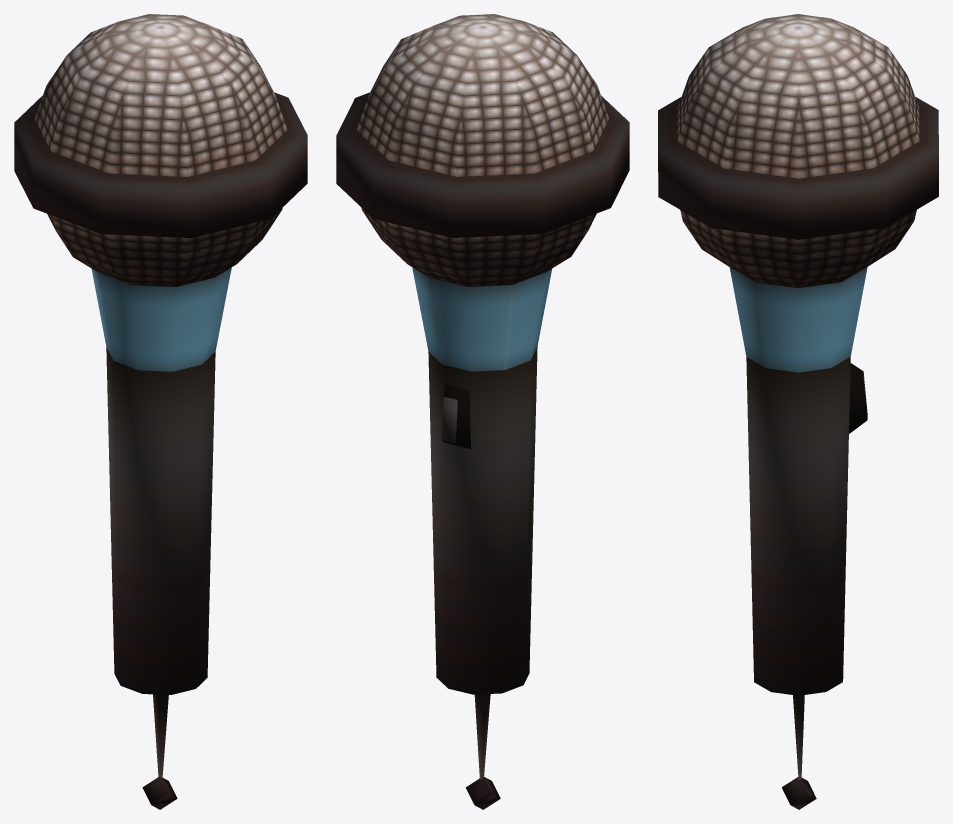
Rendered from microphone.fbx.
3 renders of one model, left to right at view 1: azimuth 30°, elevation 25°; view 2: azimuth 150°, elevation 25°; view 3: azimuth 270°, elevation 25°, orthographic.
Visible parts, largest first — view 1: microphone; view 2: microphone; view 3: microphone.
Boxes of the visible parts, x1,y1,x2,y2 form: microphone: [14, 14, 307, 809]; microphone: [336, 14, 629, 809]; microphone: [658, 14, 938, 809].
Size of the model in its own units: 2.46 by 7.21 by 2.34.
